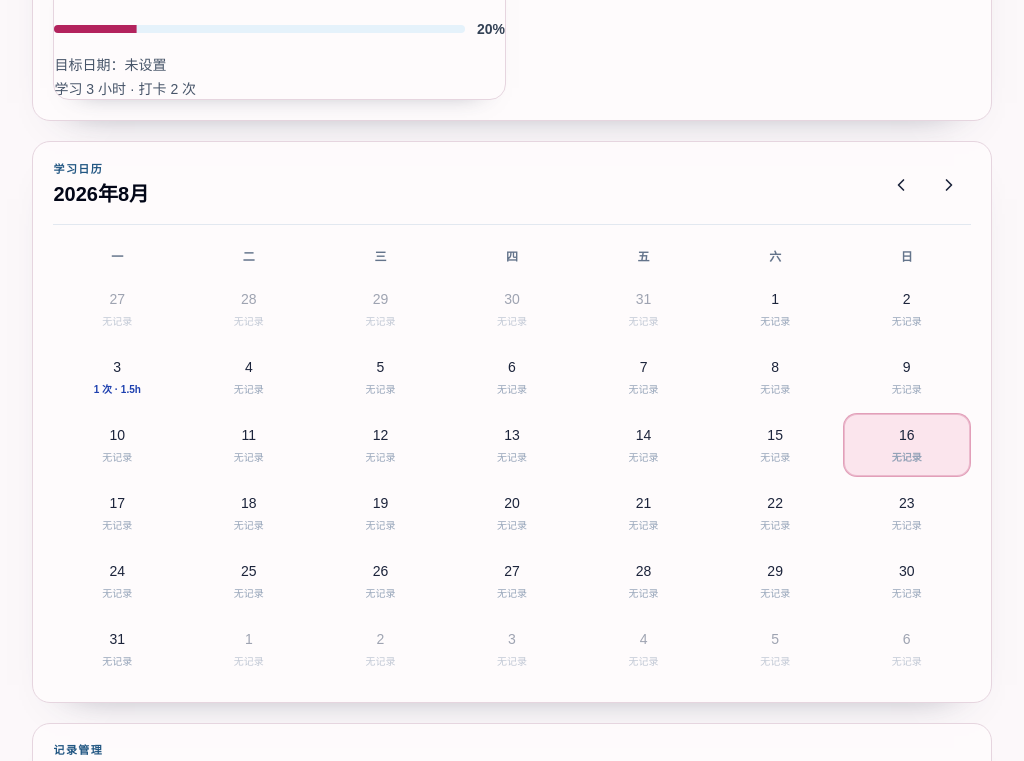
Test: Learning page › prefills a check-in from a calendar date and submits through the store
The width and height of the screenshot is (1024, 761).
(page scrolled)
Click the button named "2026年8月3日".
click(117, 377)  # box [54,345,181,409]
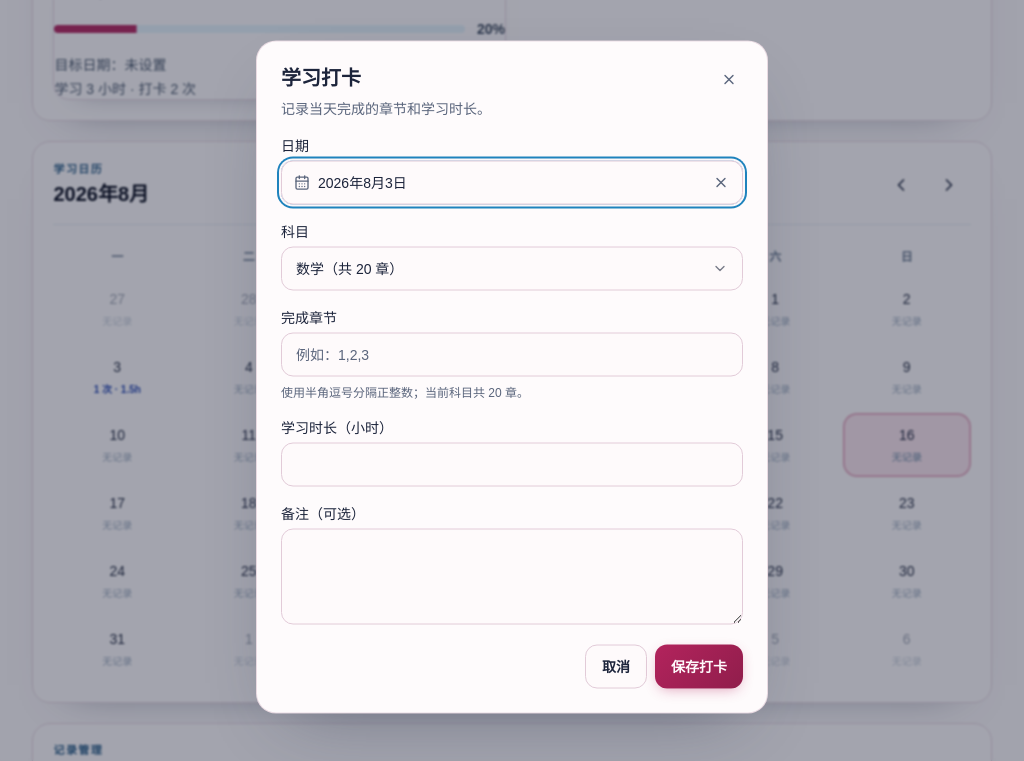
expect the dialog "学习打卡" is shown: met, box [256,40,768,714]
expect the button named "日期" reads "2026年8月3日": met, box [281,160,743,204]
Click the dropdown named "科目".
click(340, 268)  # box [281,246,743,290]
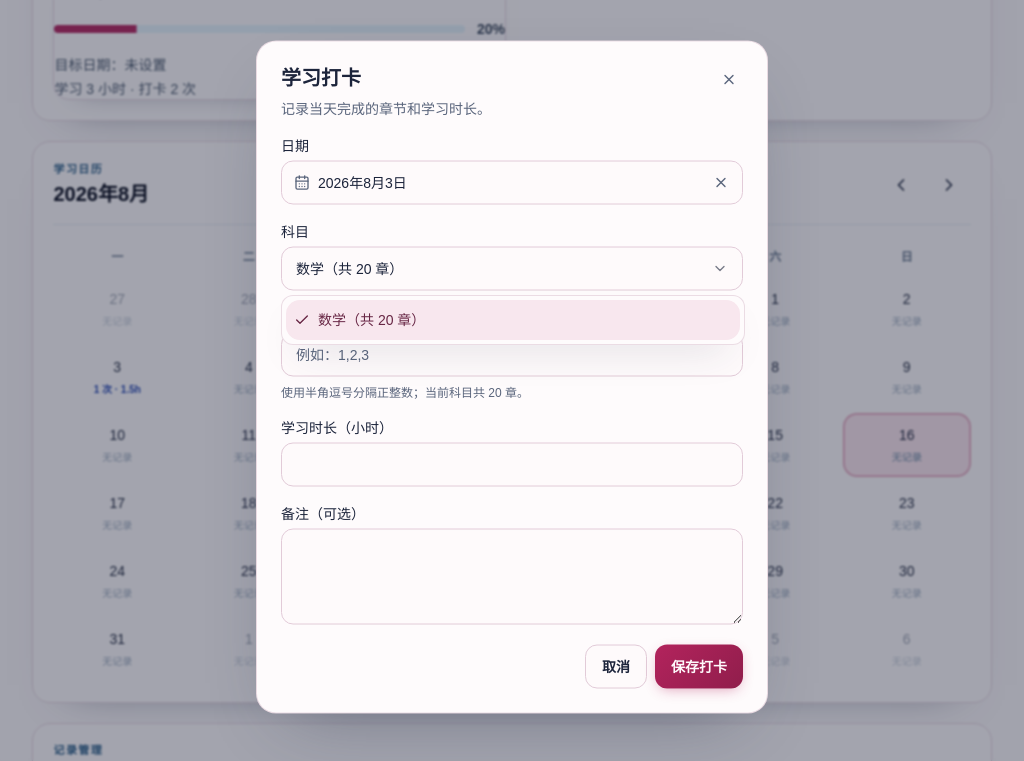
Click the option "数学（共 20 章）".
click(362, 320)  # box [286,300,740,340]
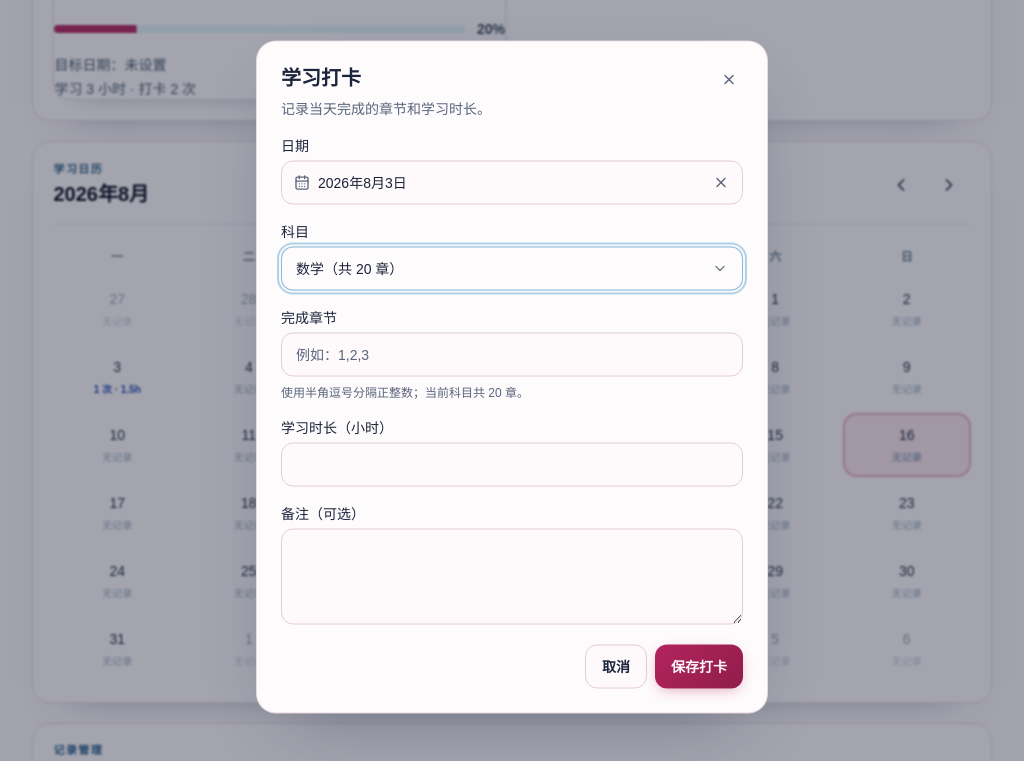
Type "5" into the field labelled "完成章节".
click(512, 354); type("5")  # box [281,332,743,376]
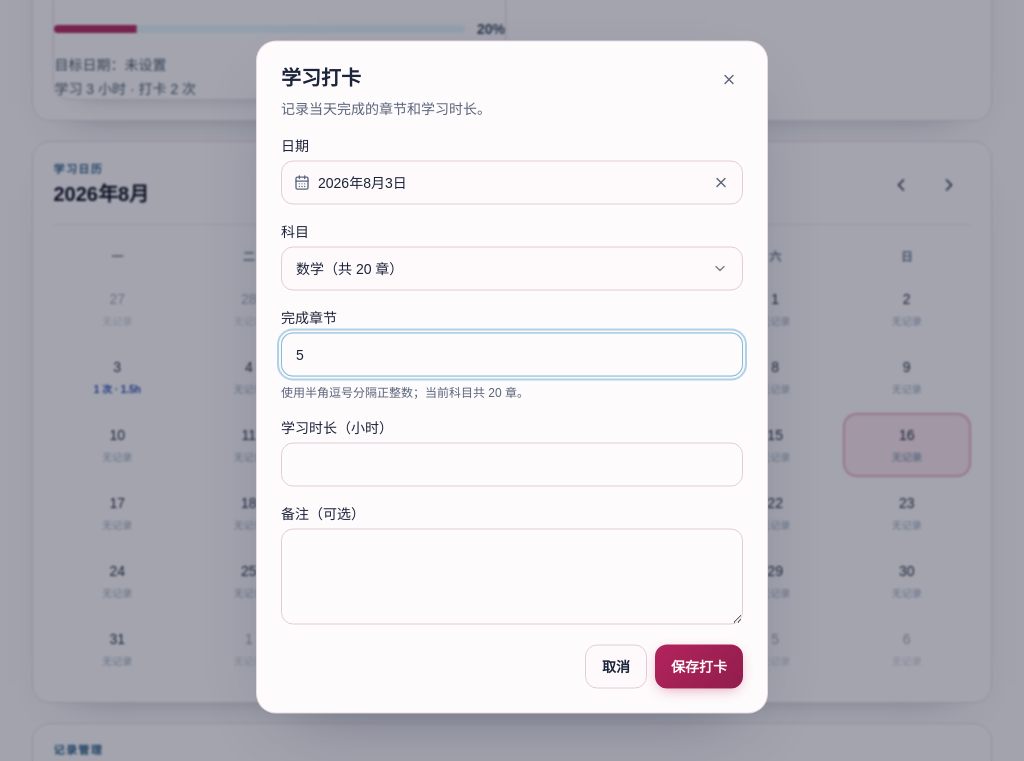
Type "1" into the number field labelled "学习时长（小时）".
click(512, 464); type("1")  # box [281,442,743,486]
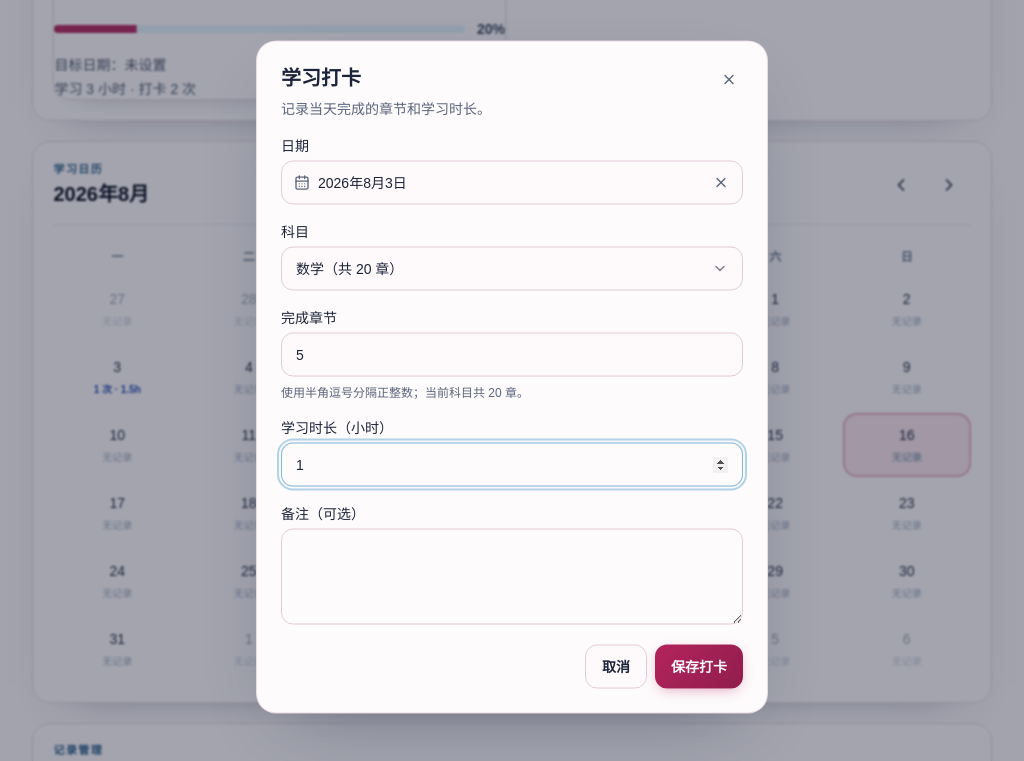
Click the button "保存打卡".
click(699, 666)  # box [655,644,743,688]
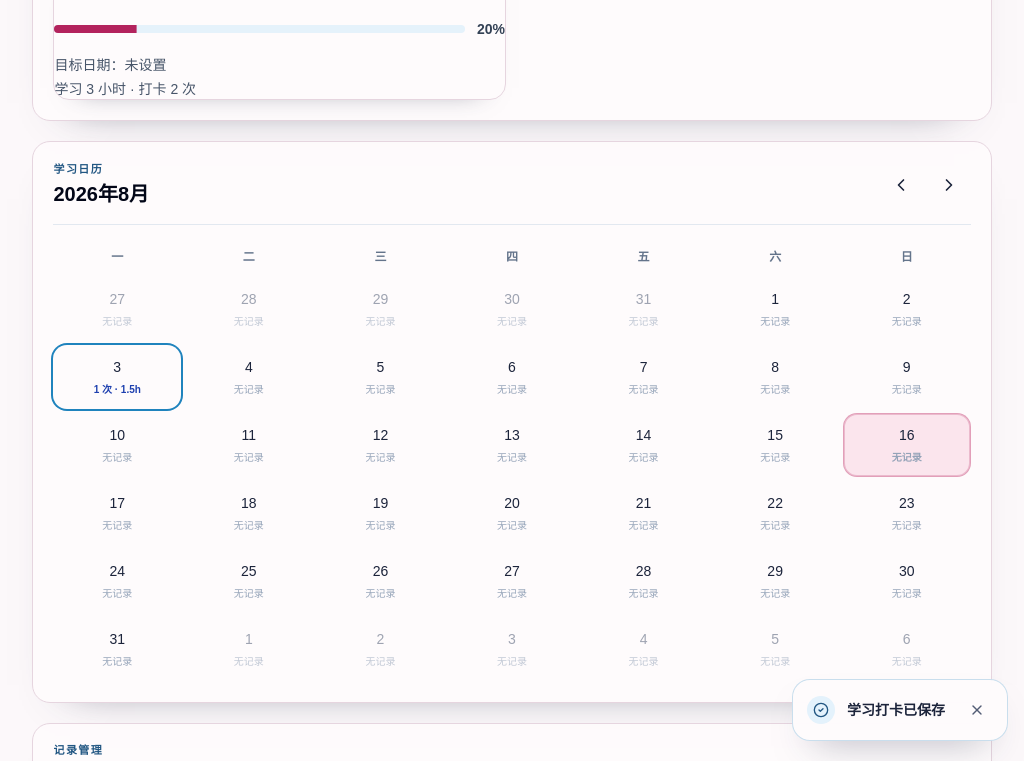
expect the message reads "学习打卡已保存": met, box [847,702,945,718]
